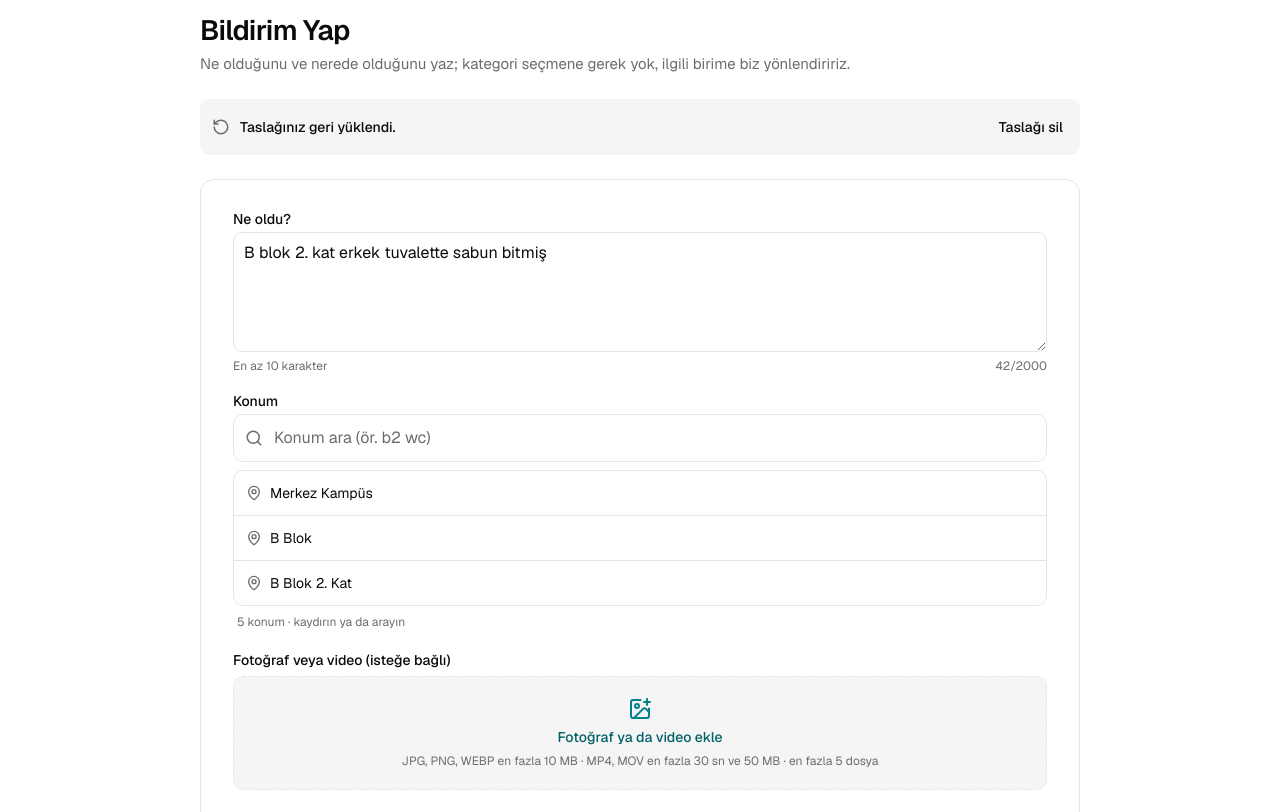
Test: report draft › empties the form when the draft is deleted
Step 1. Click the button "Taslağı sil" → (1031, 127), box 986,107 -> 1076,147
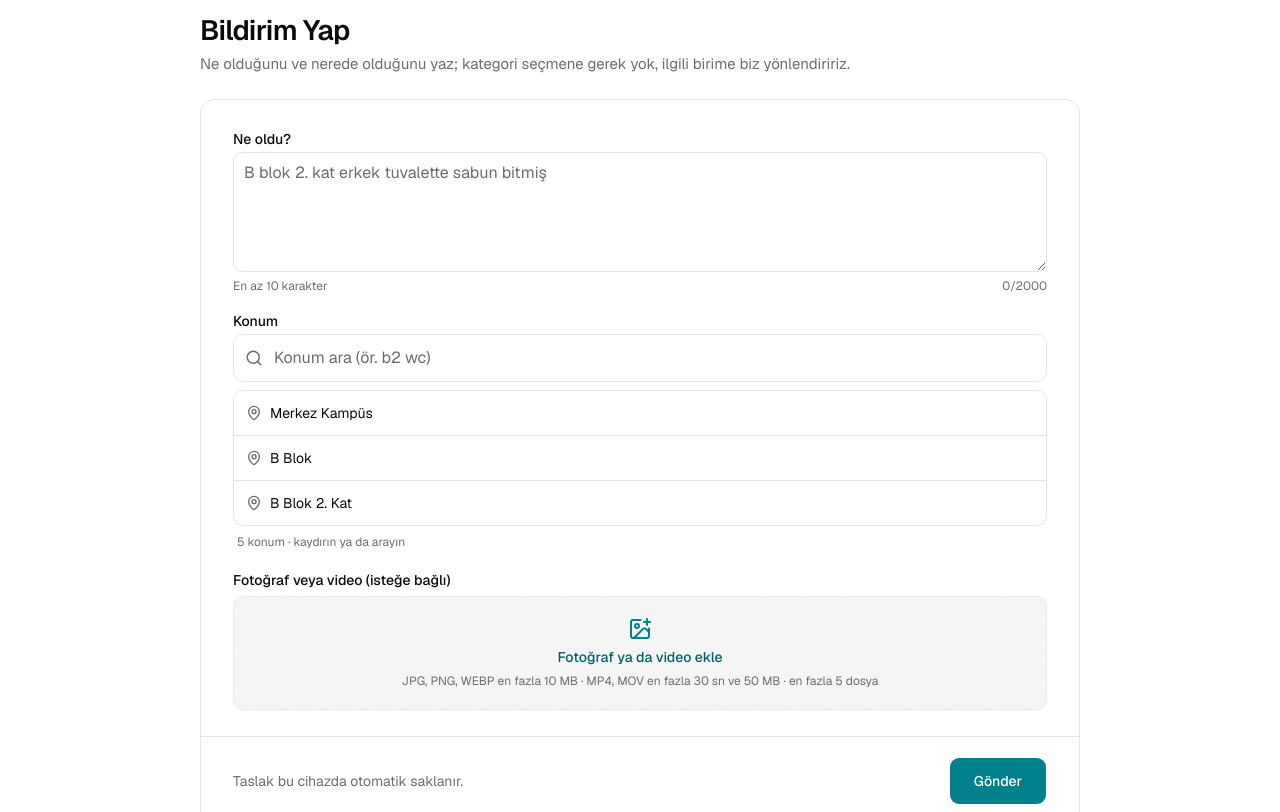
Expected: the text box labelled "Ne oldu?" is empty, 233,152 -> 1047,272
Expected: the text "Taslağınız geri yüklendi." is gone
